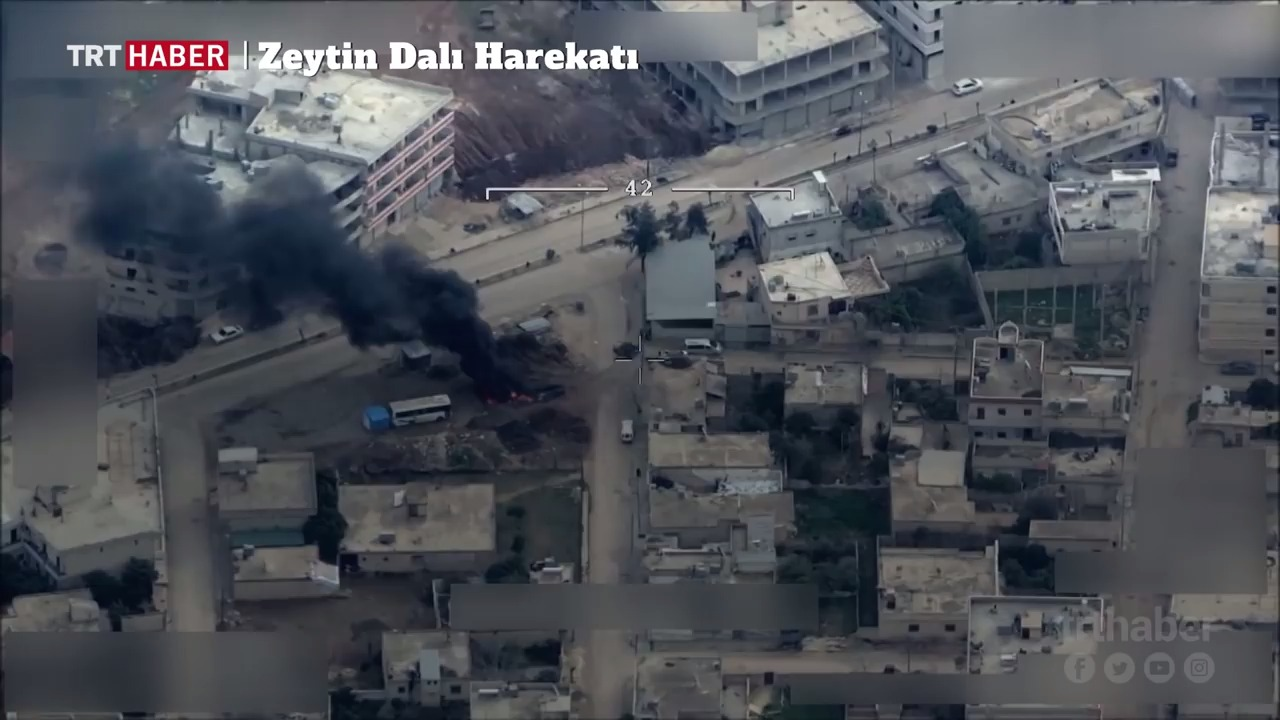arac: (386, 382, 466, 433), (1151, 135, 1188, 176), (608, 408, 648, 445), (1211, 355, 1264, 382), (676, 328, 722, 358), (950, 68, 998, 95), (209, 315, 243, 351)
